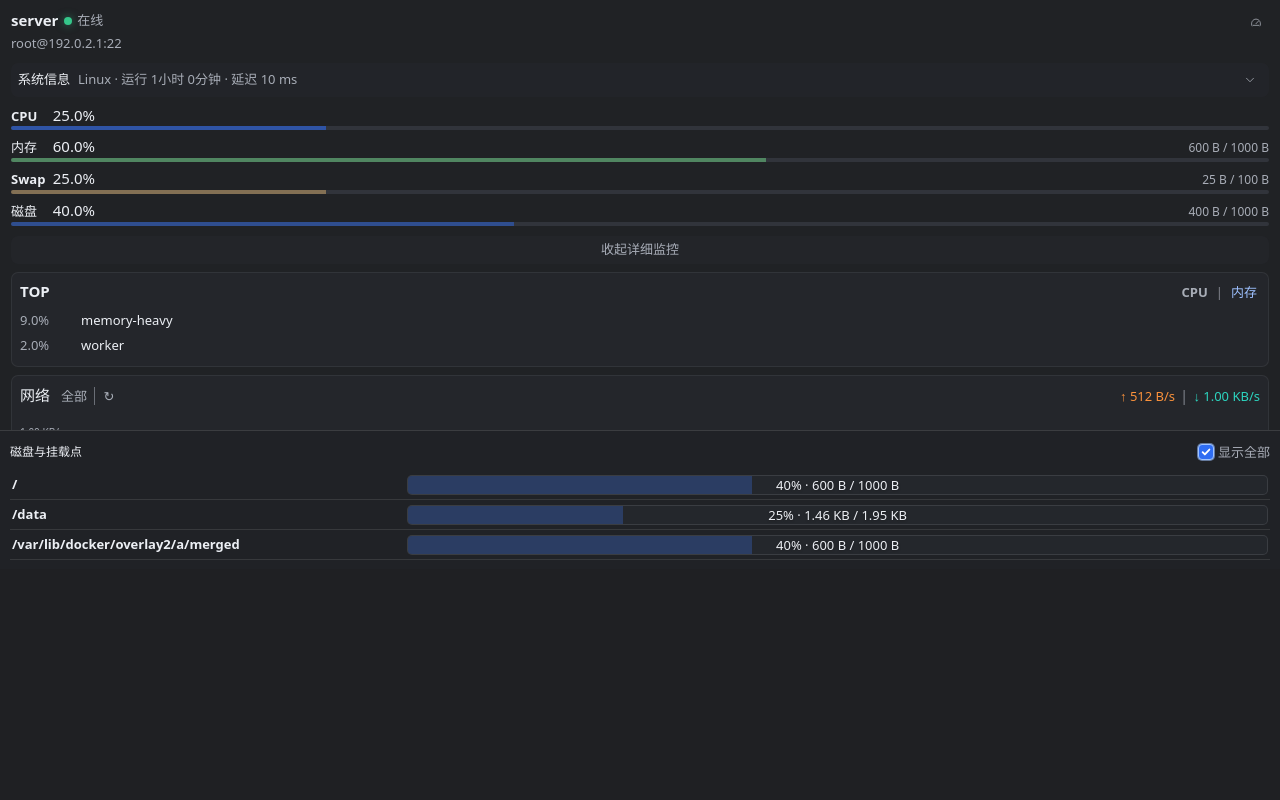
CompactMonitorSidebar › shows CPU unavailable on the CPU tab without hiding Memory process rows
Expected: the button "9.0% memory-heavy" is shown, [20,308,1260,333]
Click the button "CPU".
click(1195, 292)  # box [1178,281,1211,303]
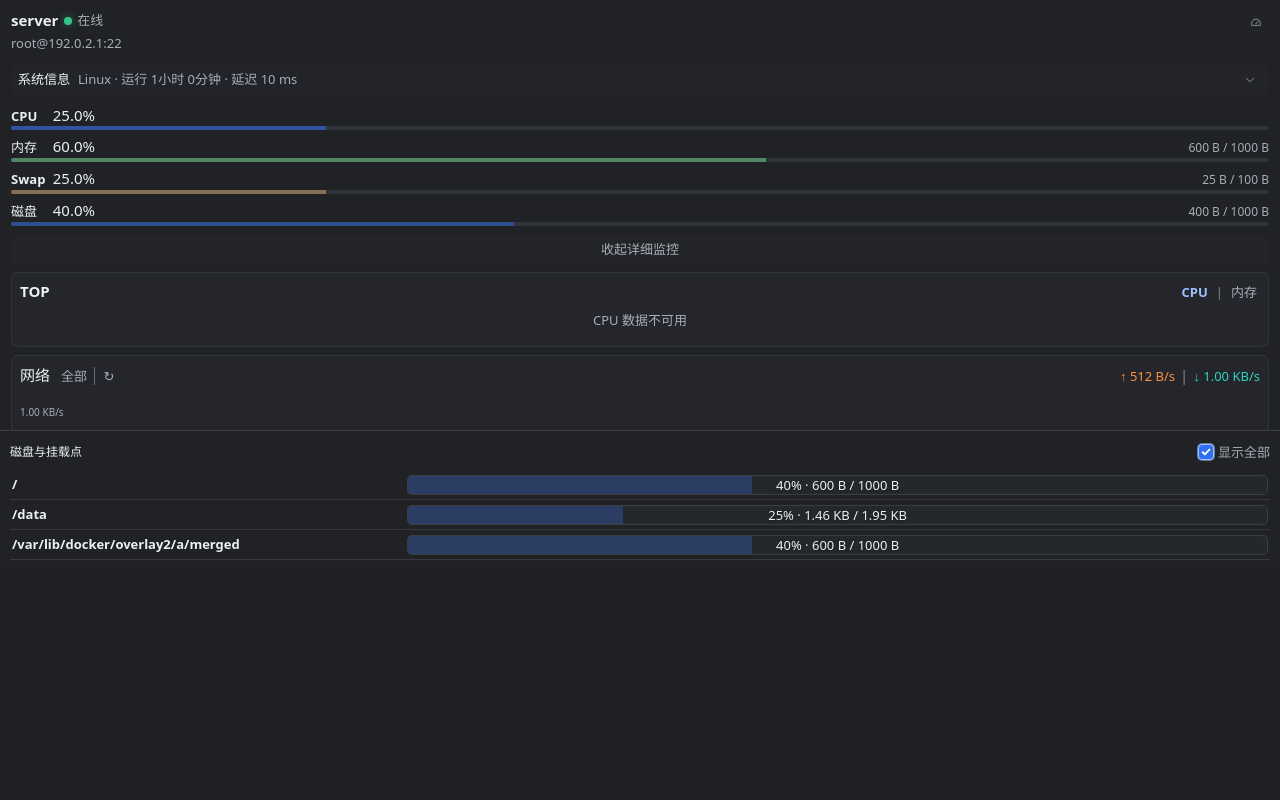
Expected: no buttons are shown
Expected: the text with class "compact-empty" reads "CPU 数据不可用", [593,311,687,329]
